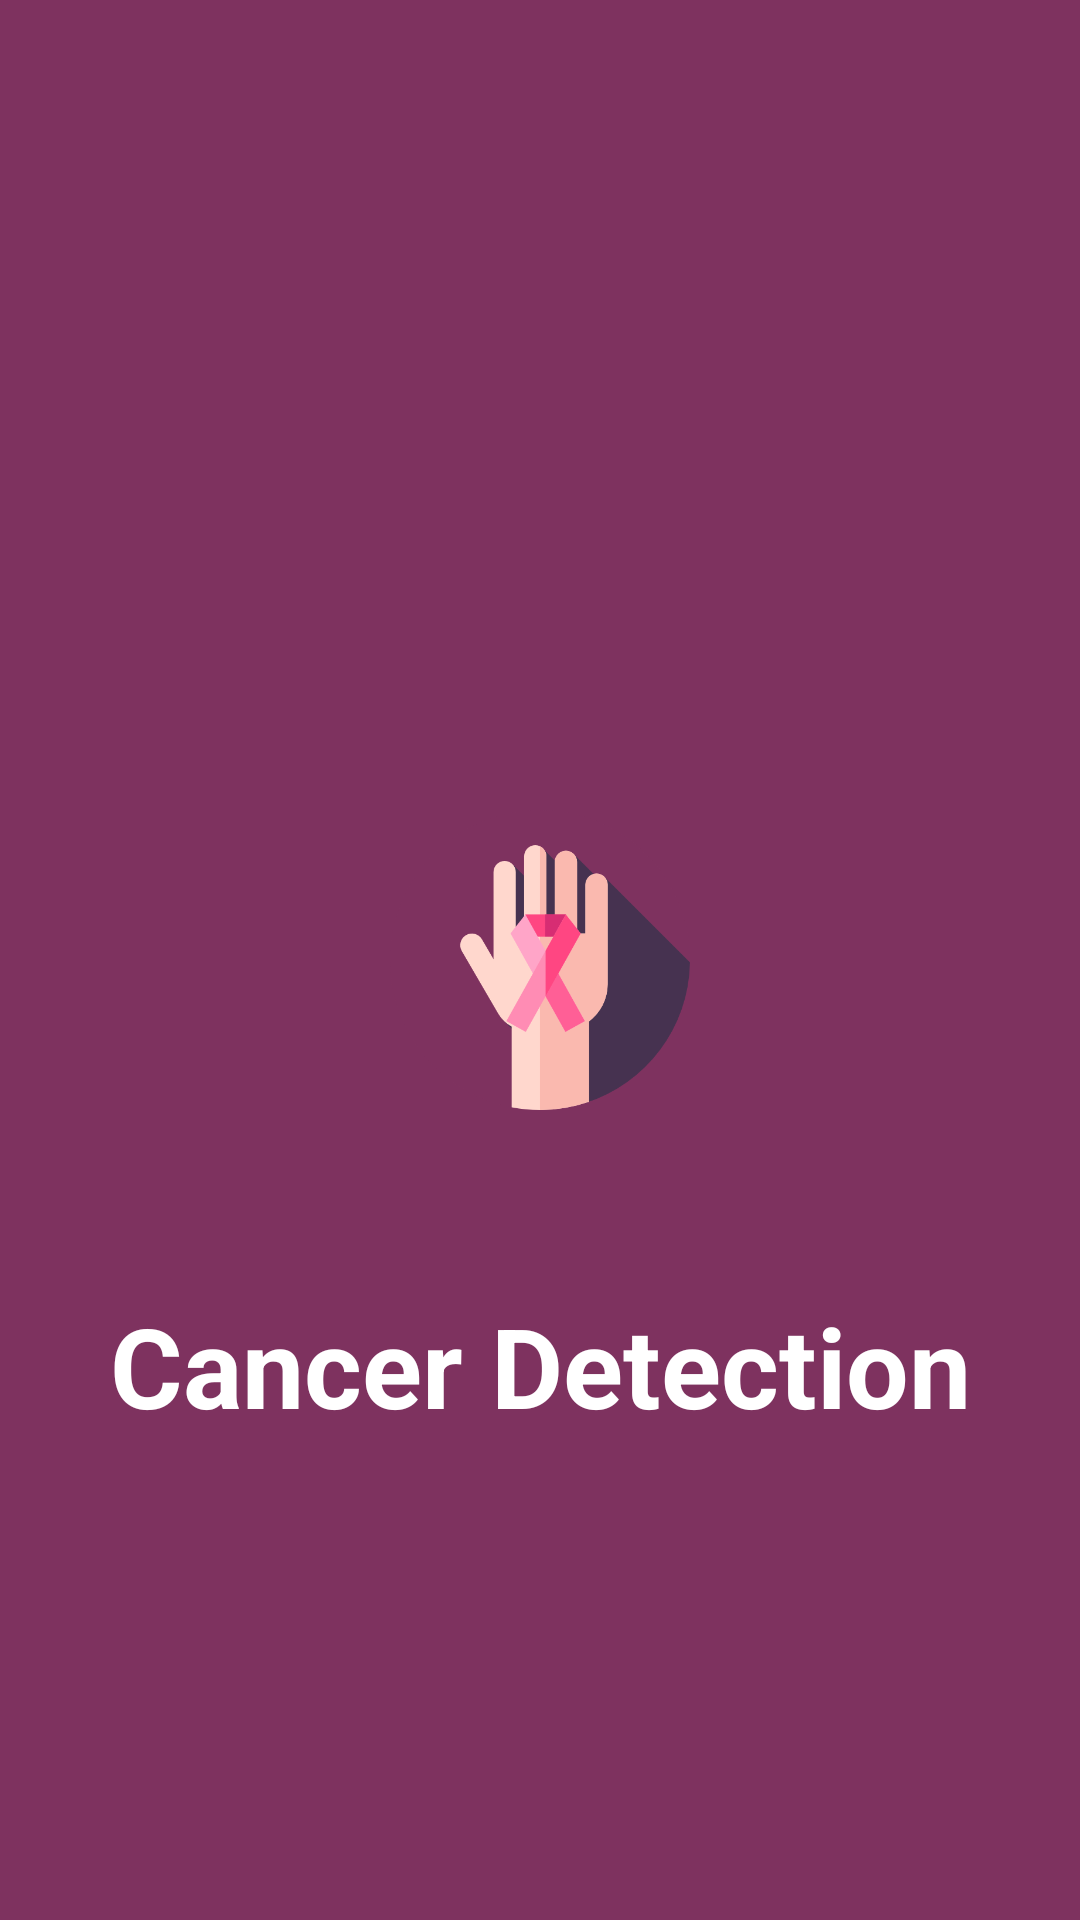

Icon bounding boxes for this 1080px×1920px phone screenshot, format [x1=x1, y1=y1, x2=x2, y2=y2]:
iconanticancer: [x1=460, y1=845, x2=690, y2=1110]
